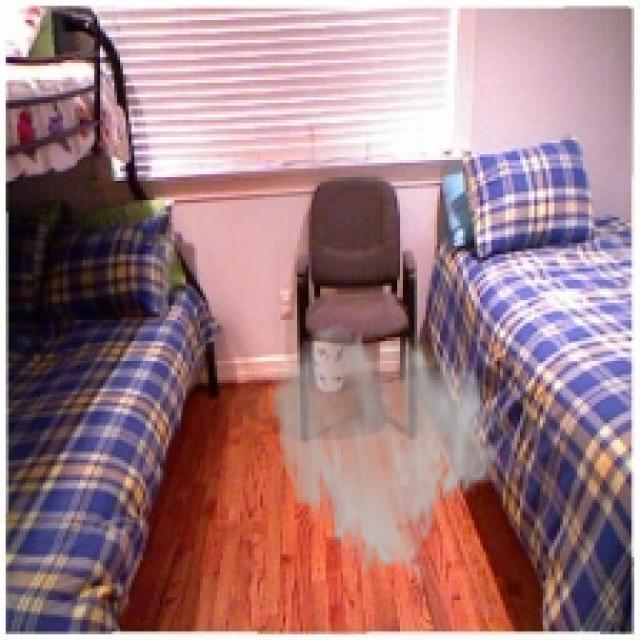Smoke: (268, 320, 501, 586)
